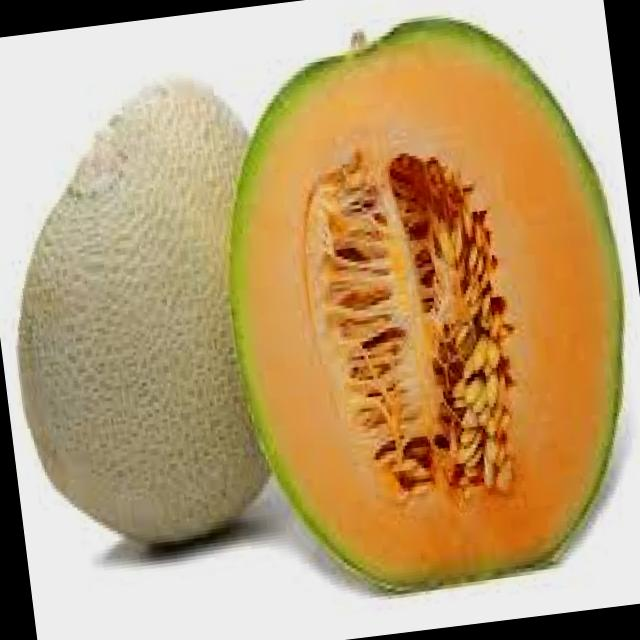cantaloupe: (200, 0, 640, 603), (0, 67, 301, 563)
